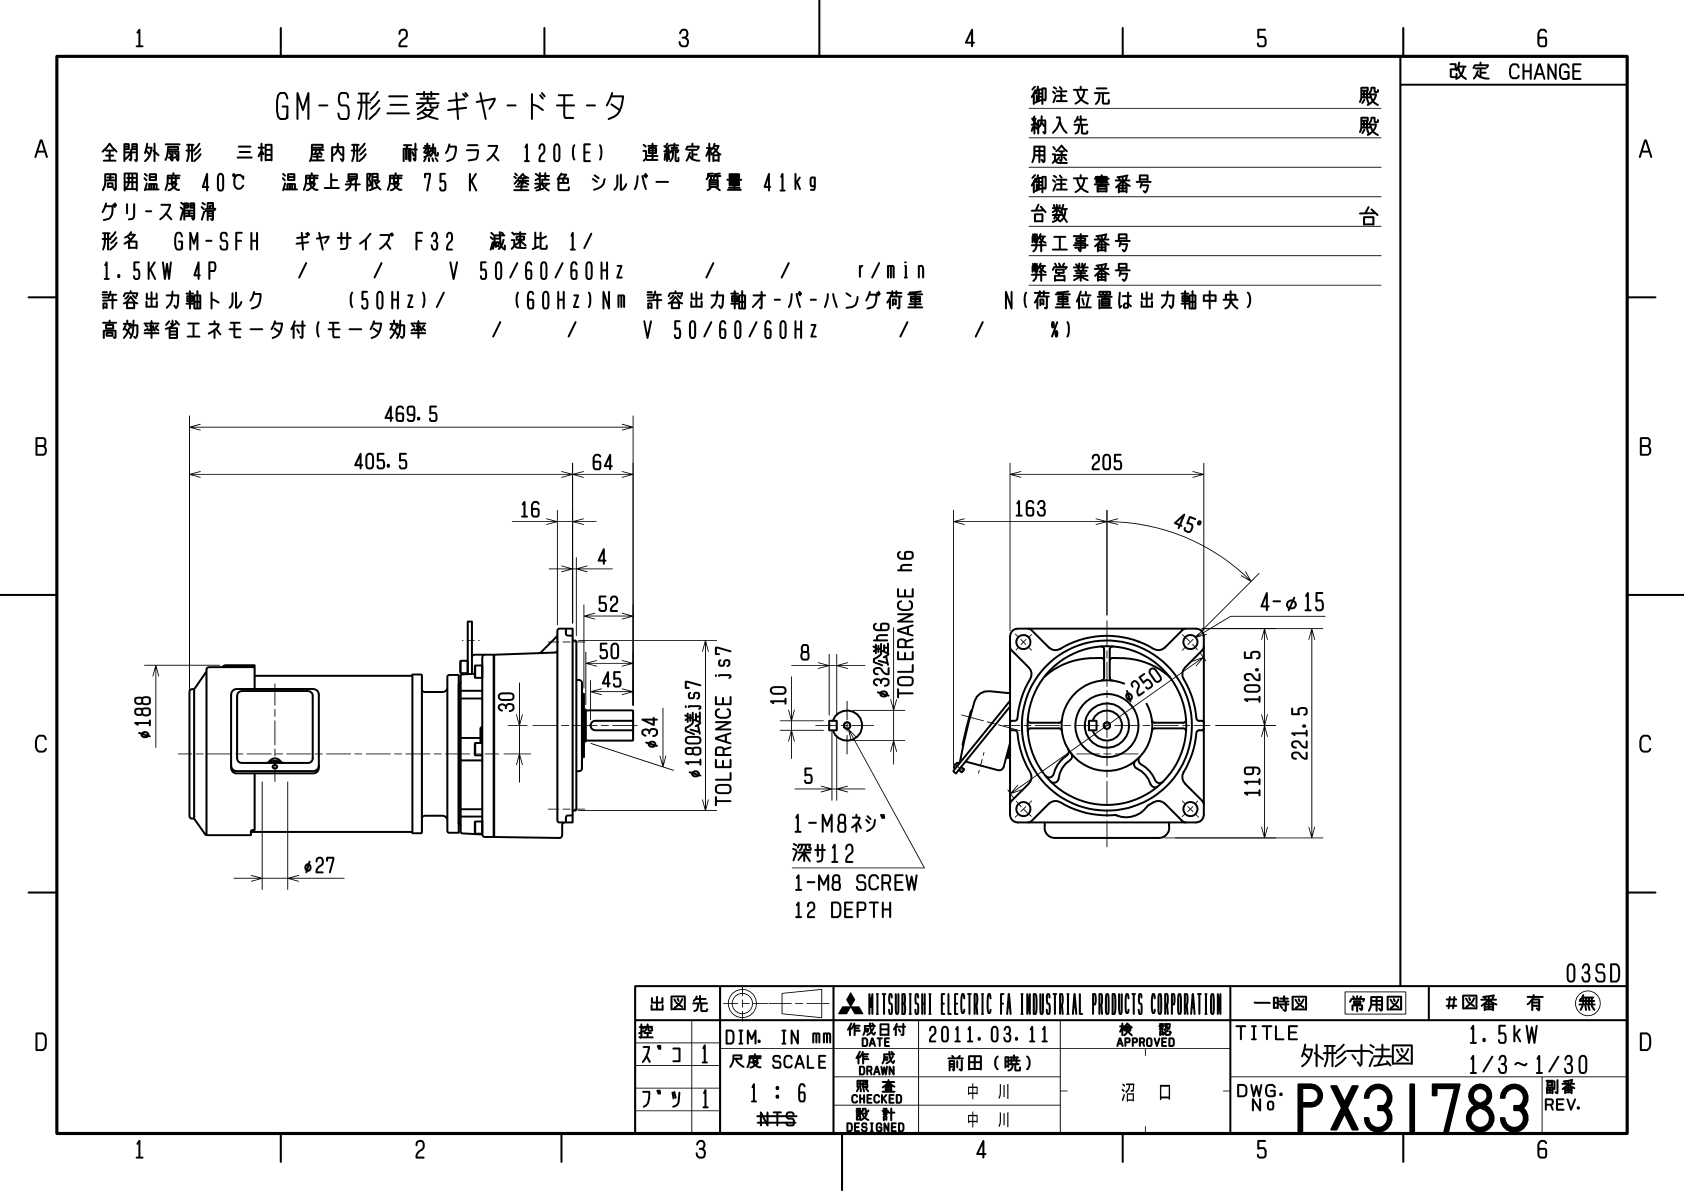GM_S_高効率屋内＿三相_フランジ: (3, 6, 1678, 1183)
